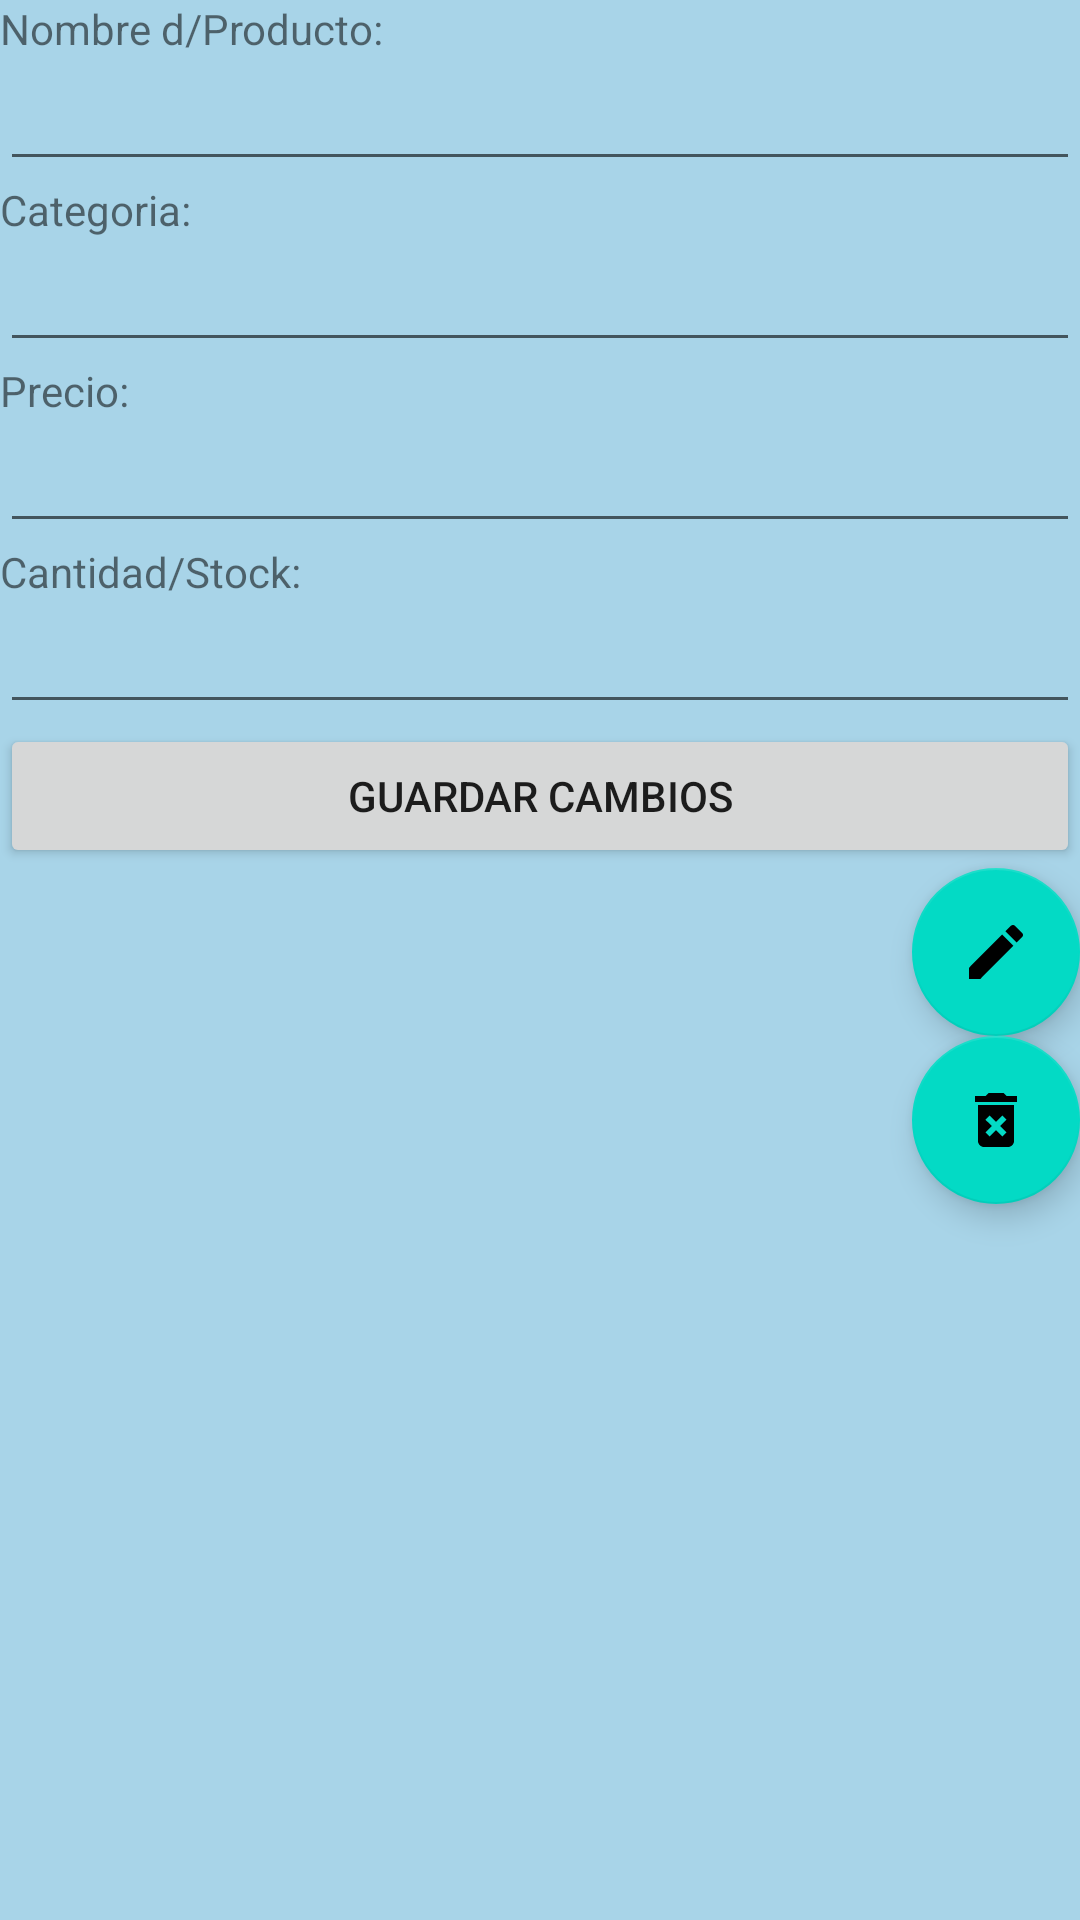

Icons on this 1080px x 1920px Android screen, each with its box as (x1, y1, x2, y2):
delete: (912, 1036, 1080, 1204)
edit: (912, 868, 1080, 1036)
